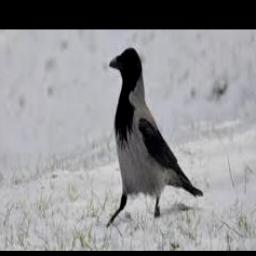Crow: (108, 46, 204, 227)
